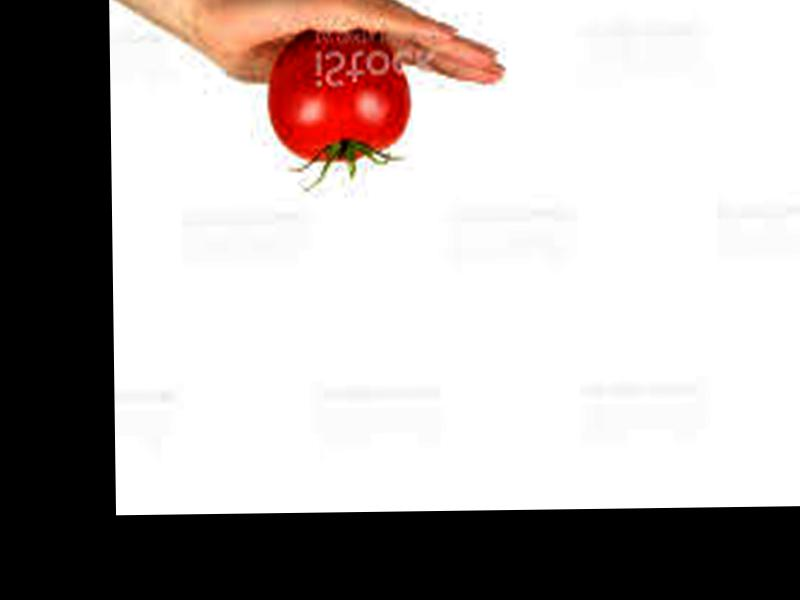Tomato: (267, 32, 408, 165)
